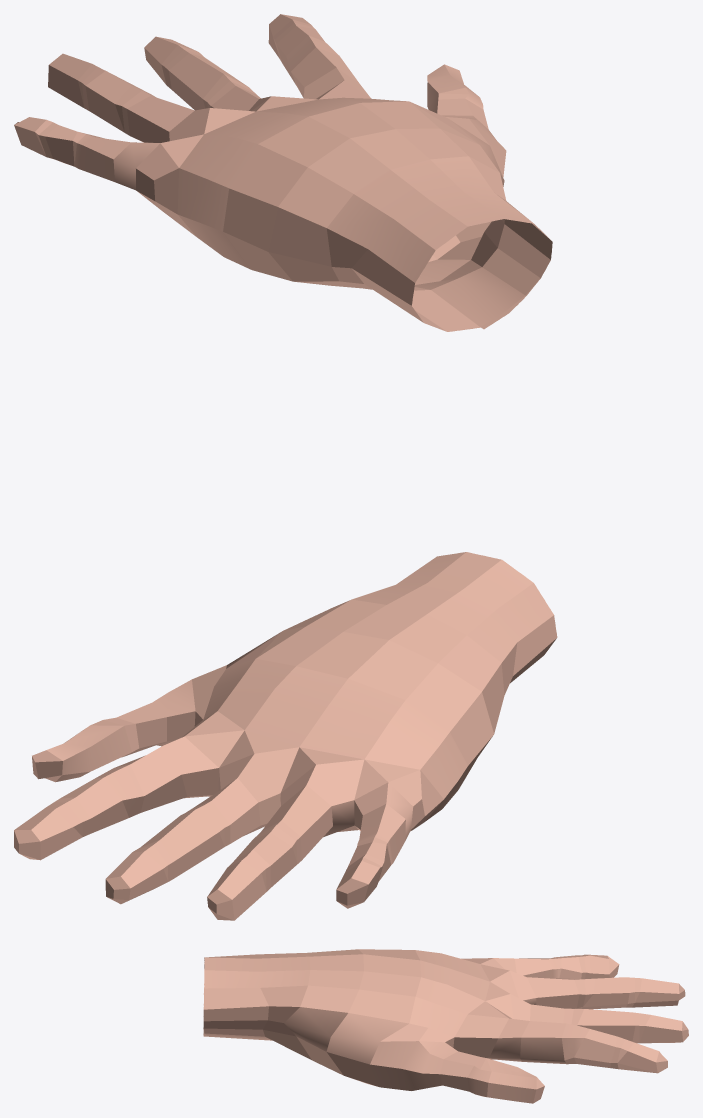
File: Hand_UV.fbx
The picture shows the model from 3 angles, top to bottom: view 1: azimuth 30°, elevation 25°; view 2: azimuth 150°, elevation 25°; view 3: azimuth 270°, elevation 25°; orthographic projection. The views are drawn at different scales.
Visible parts, largest first — view 1: hand; view 2: hand; view 3: hand.
Boxes of the visible parts, box(x1,y1,x2,y2) form: hand: box(14, 14, 552, 331); hand: box(14, 552, 557, 920); hand: box(203, 949, 688, 1103).
Bounding box in the file's own units: 19.12 × 6.32 × 41.43.
